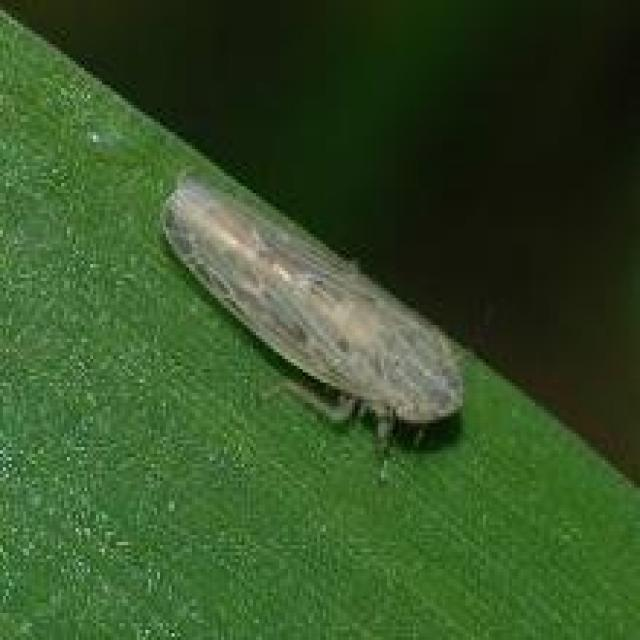Yechan: (153, 172, 481, 441)
